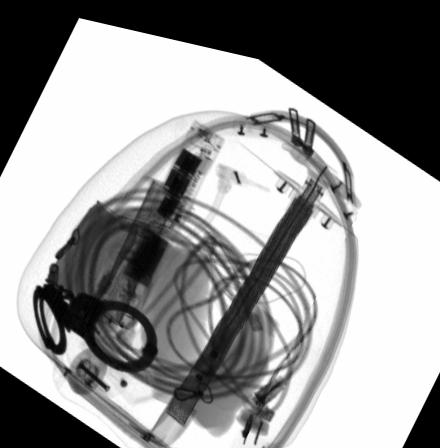Baton: (92, 109, 224, 325)
HandCuffs: (30, 280, 157, 369)
